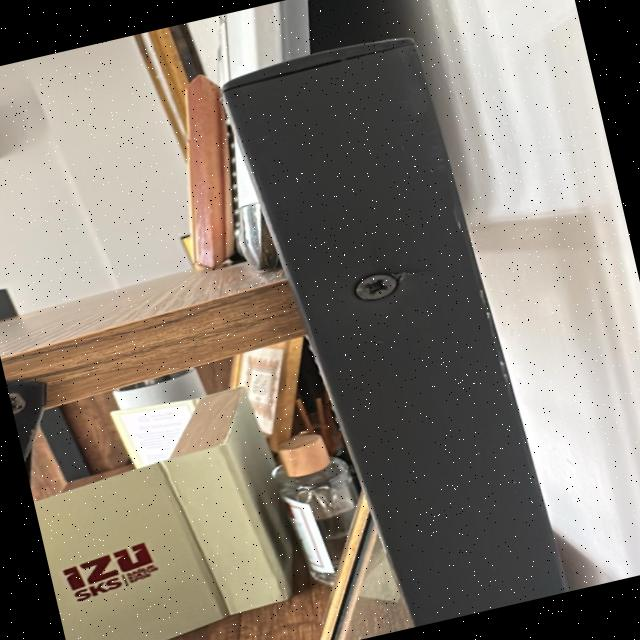Pozidriv: (342, 266, 406, 308)
